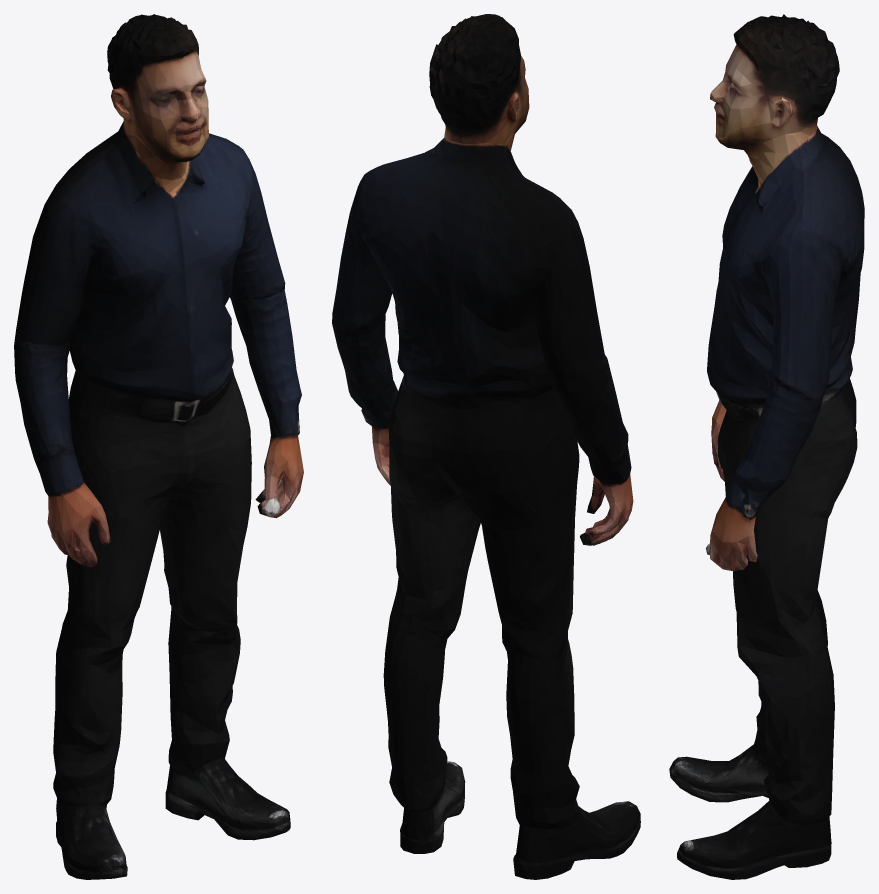
File: eyad_elfar.glb
The picture shows the model from 3 angles, left to right: view 1: azimuth 30°, elevation 25°; view 2: azimuth 150°, elevation 25°; view 3: azimuth 270°, elevation 25°; orthographic projection.
Visible parts, largest first — view 1: geometry_0; view 2: geometry_0; view 3: geometry_0.
Part boxes in pixels (x1,y1,x2,y2): geometry_0: [14, 14, 303, 879]; geometry_0: [332, 14, 640, 879]; geometry_0: [669, 14, 864, 879].
Size of the model in its own units: 0.2418 by 0.7004 by 0.1524.
Materials: 1 (1 with a texture image).
